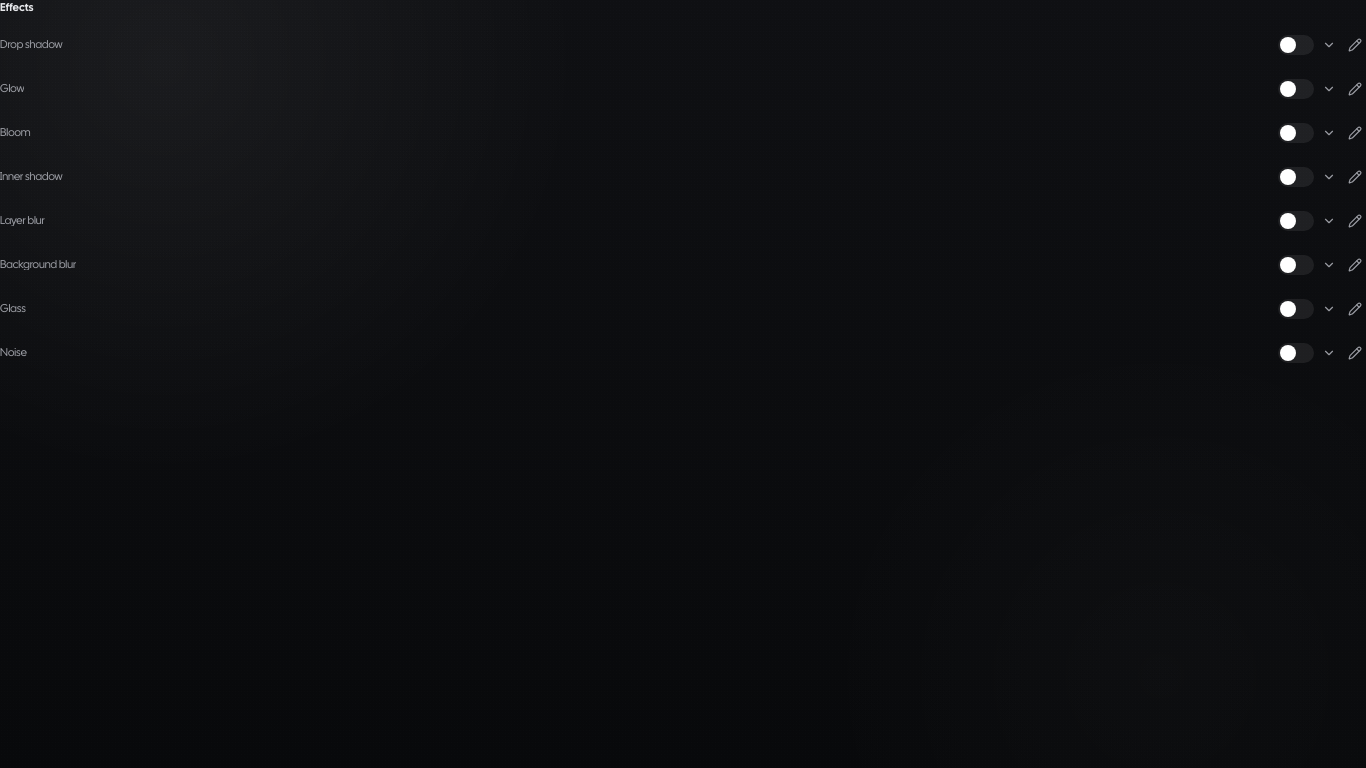
Effects — spread (2.0) e paridade modal ↔ sidebar › Escape fecha o modal de efeito
Click the button named "Edit Drop shadow" at x=1355, y=44, box [1344,34,1365,56]
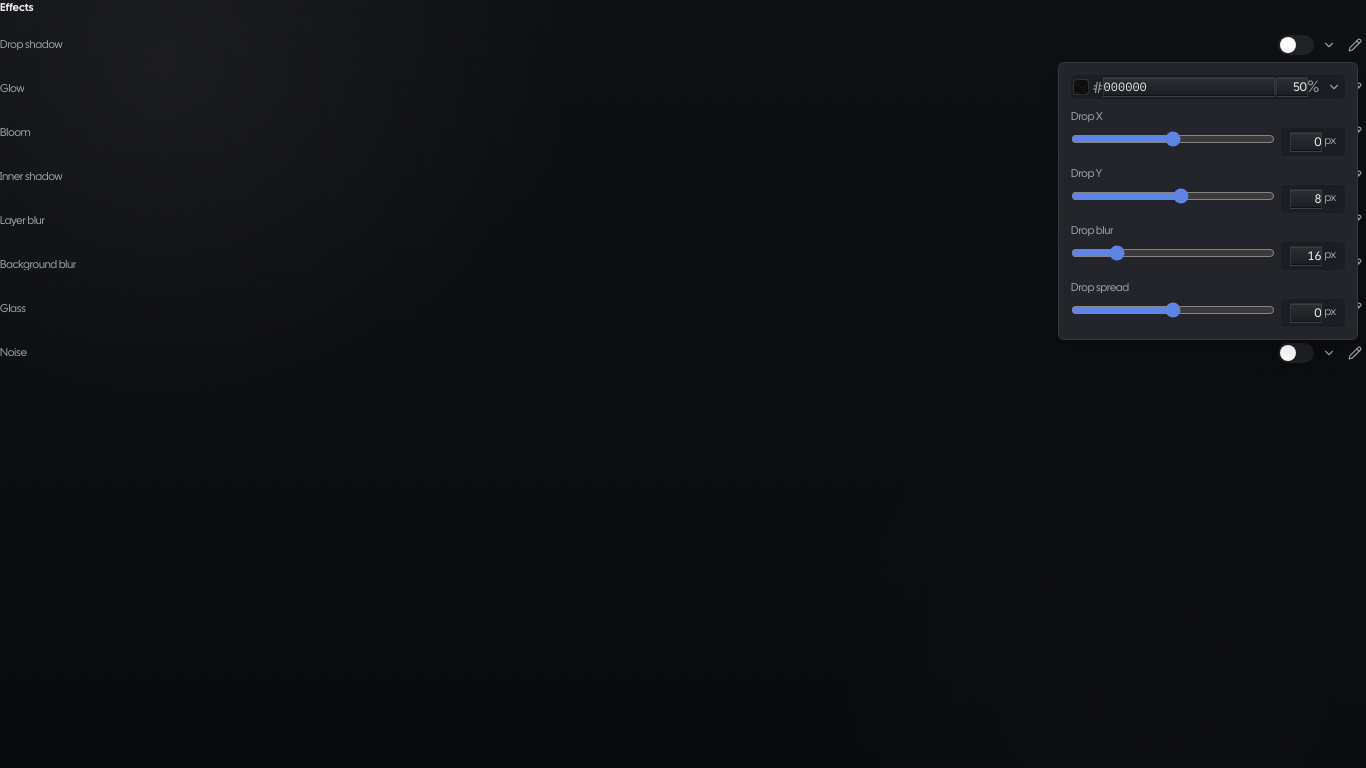
Result: the slider named "Drop spread" is shown at [1071,302,1275,318]
Press Escape
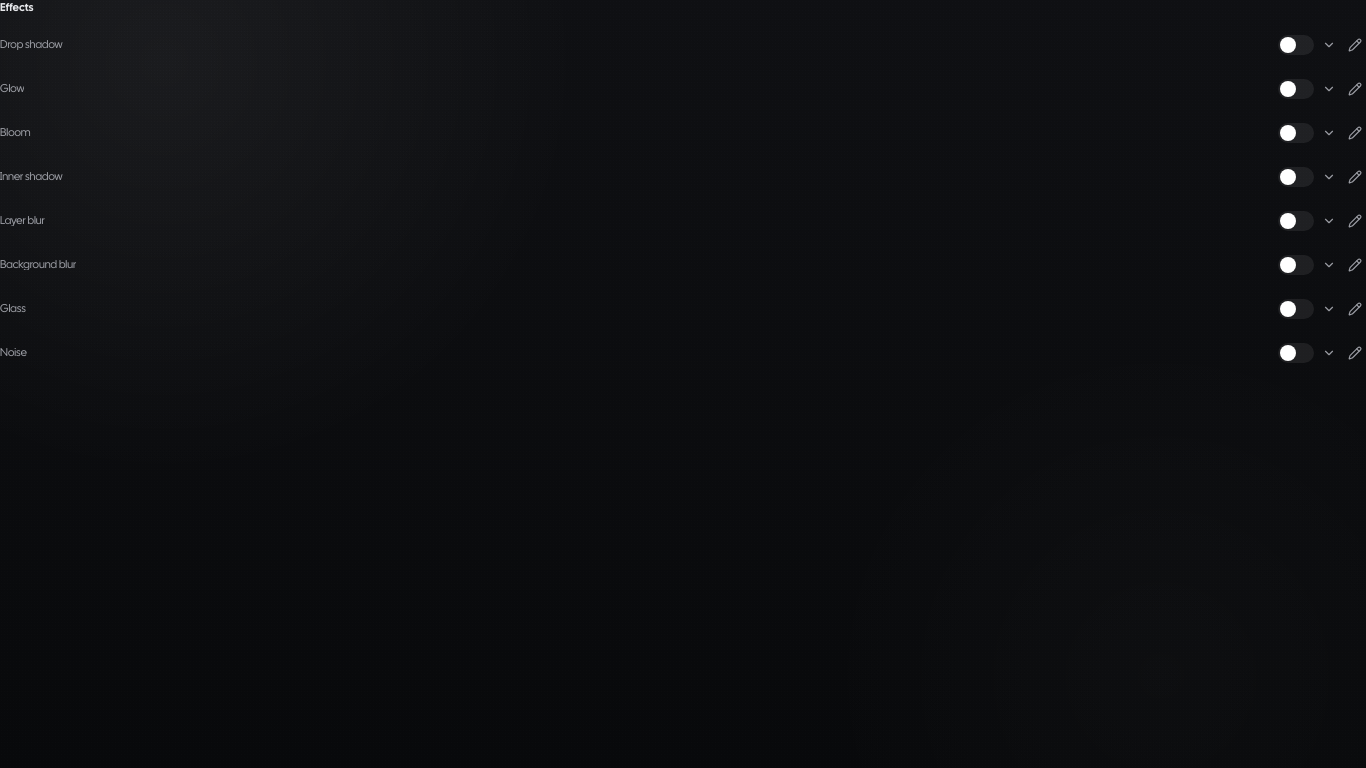
Result: the text "Drop spread" is gone
